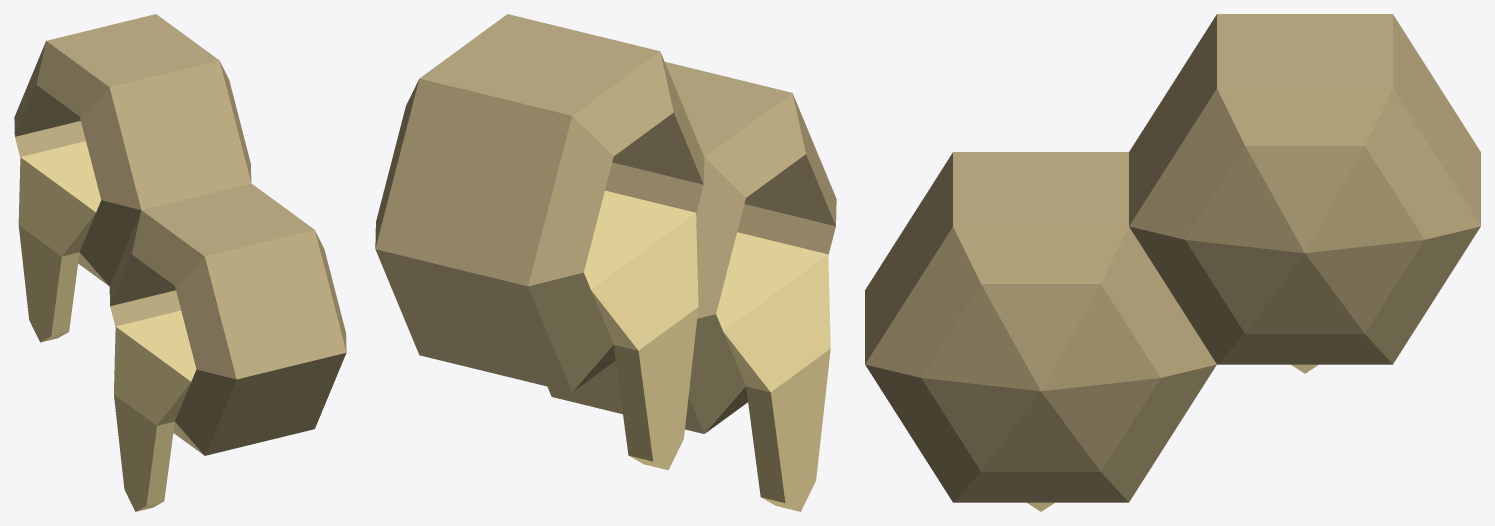
Rendered from Honey.fbx.
3 renders of one model, left to right at view 1: azimuth 30°, elevation 25°; view 2: azimuth 150°, elevation 25°; view 3: azimuth 270°, elevation 25°, orthographic. The views are drawn at different scales.
Parts seen in each view (by area): view 1: Honey; view 2: Honey; view 3: Honey.
Boxes of the visible parts, <box> form: Honey: <box>14,14,346,511</box>; Honey: <box>375,14,836,511</box>; Honey: <box>865,14,1480,511</box>.
Bounding box in the file's own units: 1.7 × 3.21 × 3.5.
